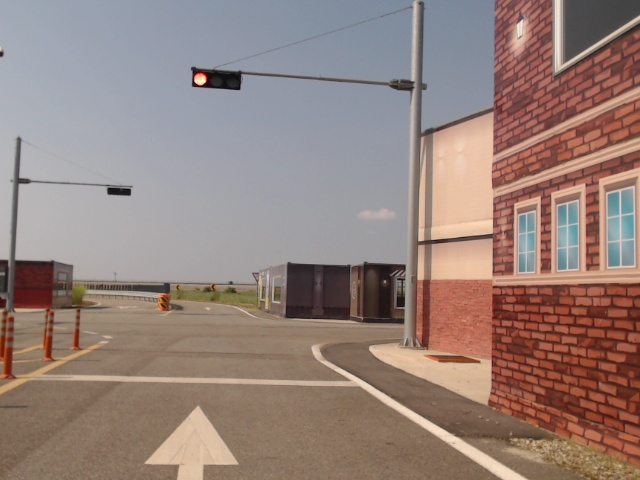red_3: (192, 67, 242, 91)
